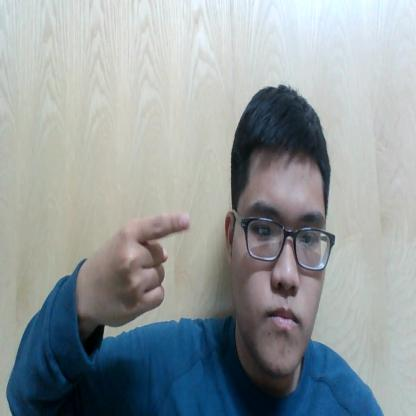left: (85, 203, 195, 333)
